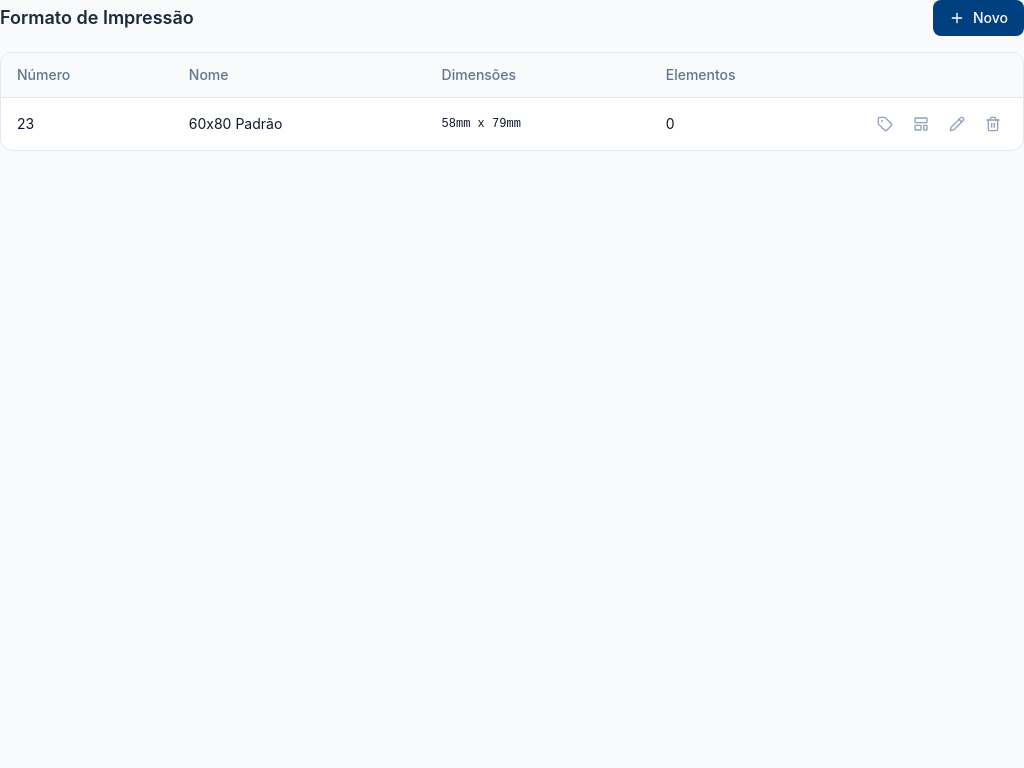
Test: Formato de Impressão — aviso de envio à balança › diz para quantas balanças o layout foi enviado
This screenshot has width=1024, height=768.
What coordinates should you click on to do the following:
click the button titled "editar layout"
I would click on:
 (921, 124)
Its box is [907,110,935,138].
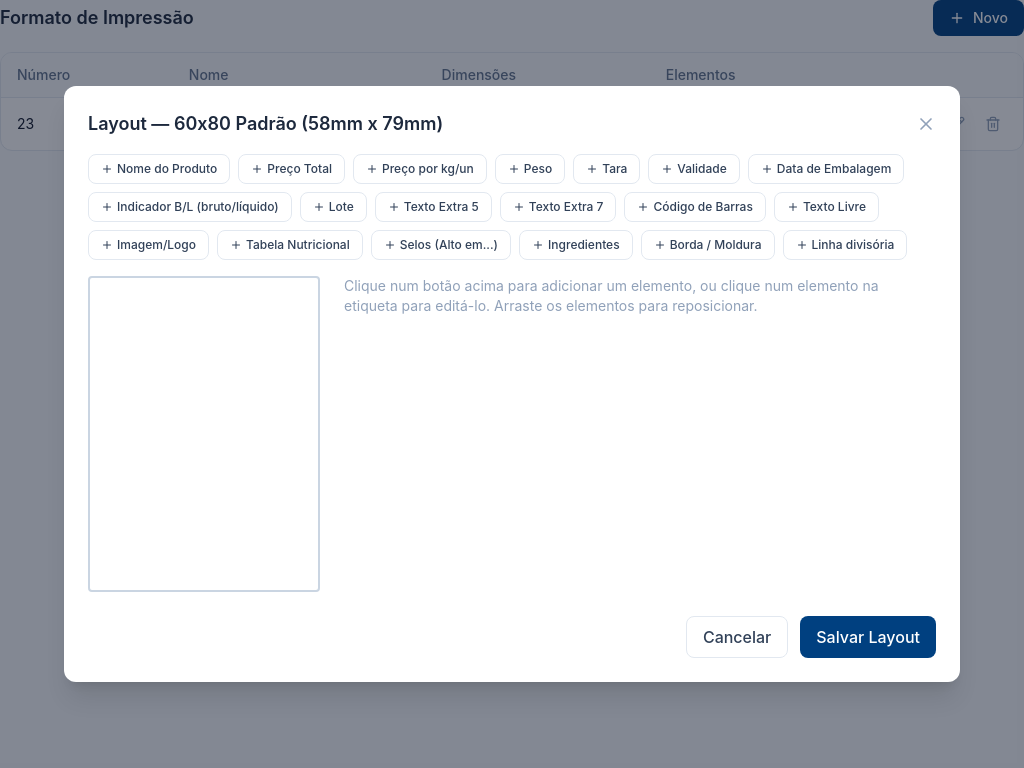
What coordinates should you click on to do the following:
click the button "Salvar Layout"
I would click on:
 (868, 637)
Its box is [800,616,936,658].
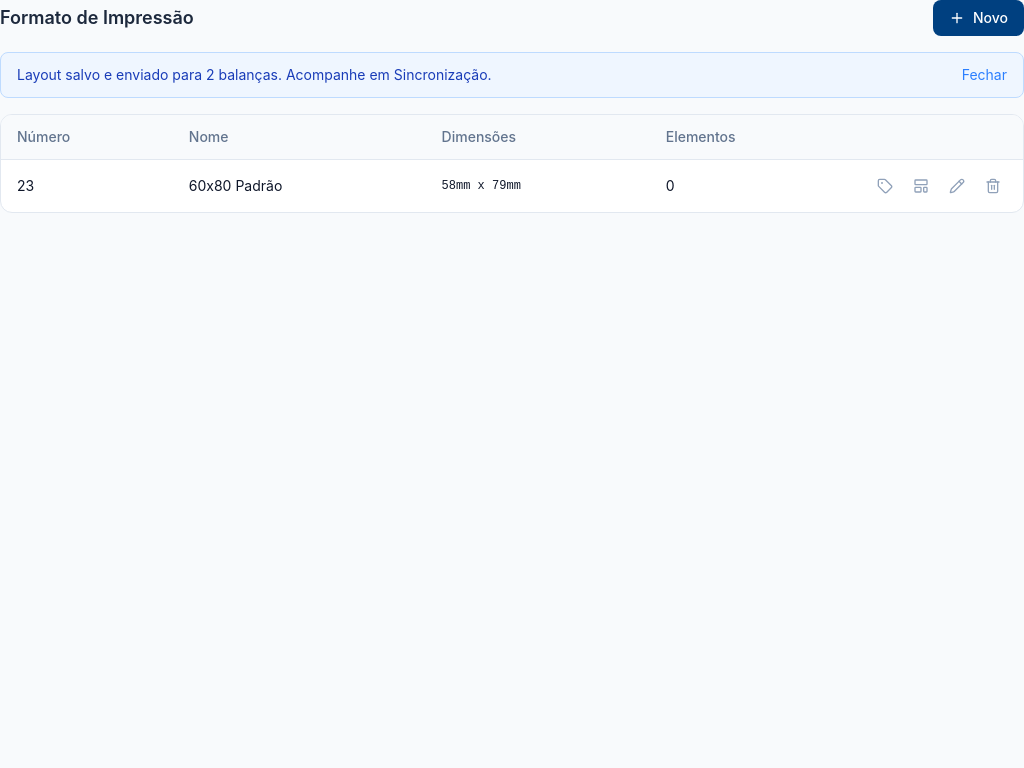
Now the text "enviado para 2 balanças" is shown, box [17,66,492,83]
